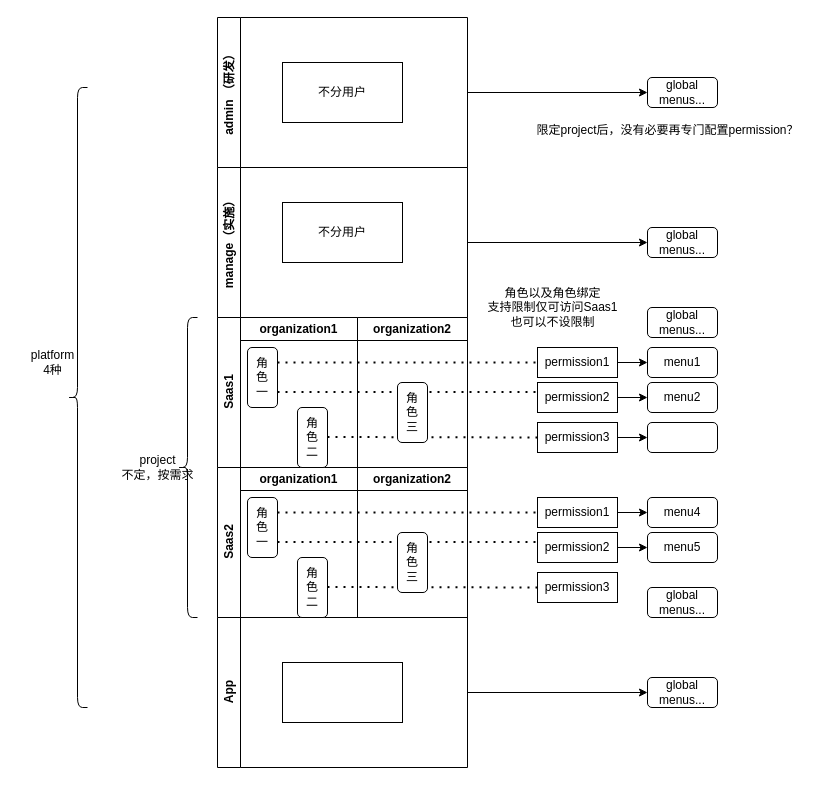
Some shapes in this 829 by 785 pixel diagram are drawn without their labels. The shapes that lost their labels are listed below. From the top down, each one's centre as x and y in pixels, then its label:
At (682,437): "menu3".
At (342,692): "不分角色".
